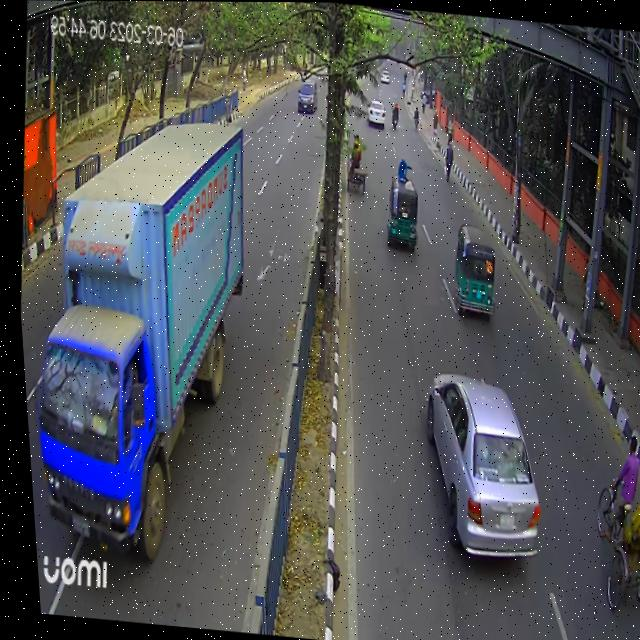cng: (442, 220, 499, 322), (376, 168, 425, 253)
rikshaw: (578, 434, 640, 612)
